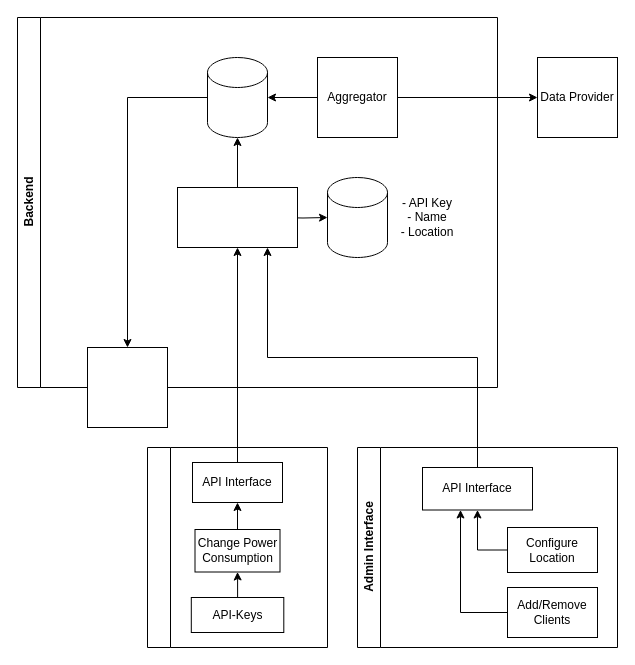
Image size: 635x665. Some labels were removed from this diagram. The box of each missing label's shape, as (x1, y1, x2, y2) in pixels:
API Service: (176, 186, 298, 248)
Auth DB: (326, 176, 388, 258)
Grafana Dashboard: (86, 346, 168, 428)
Signaling-Frontend: (146, 446, 328, 648)
Time Series DB: (206, 56, 268, 138)
